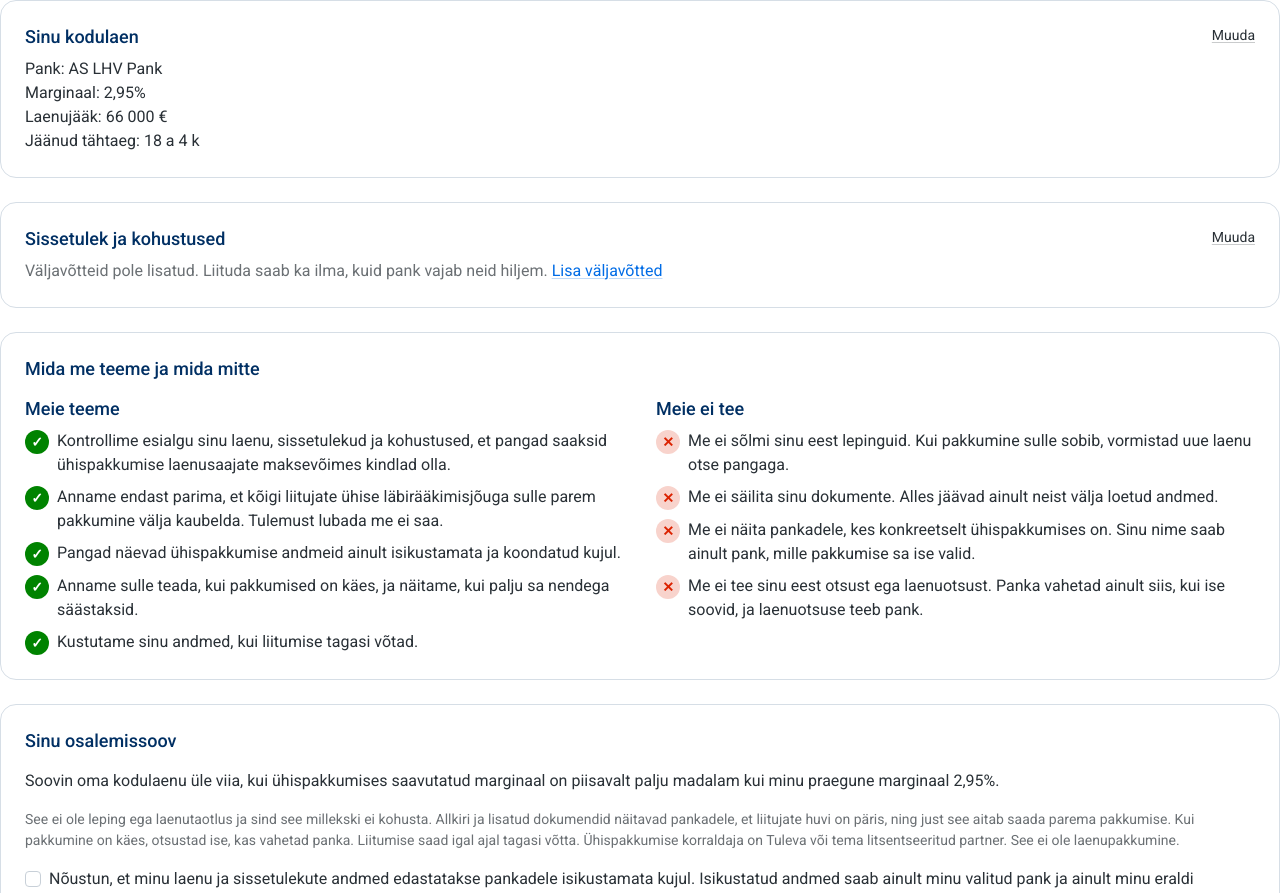
ReviewStep › explains why a signature was refused
Click the checkbox labelled "Nõustun, et minu laenu" at (33, 879), box x1=25 y1=871 x2=41 y2=887
(page scrolled)
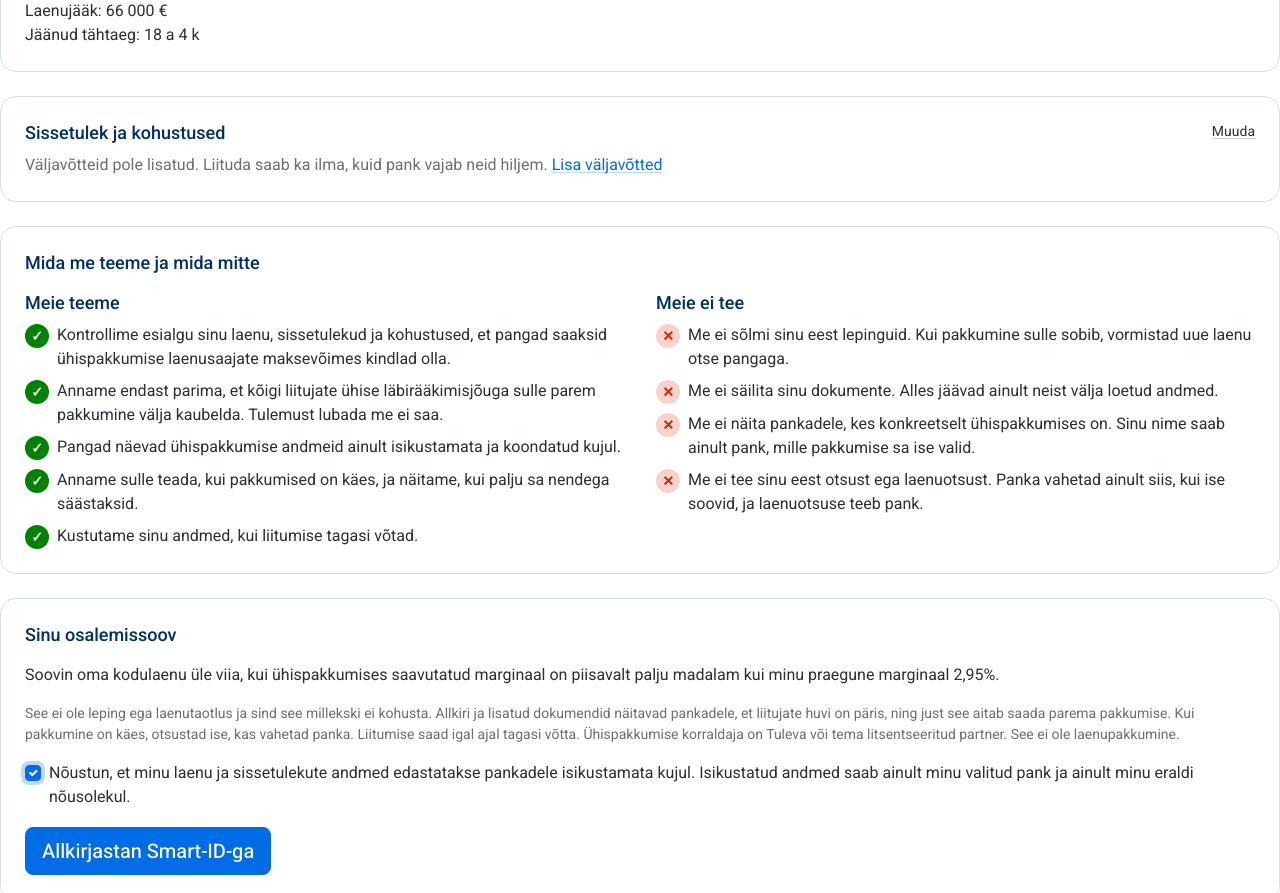
Click the button "Allkirjastan Smart-ID-ga" at (148, 851), box x1=25 y1=827 x2=271 y2=875
(page scrolled)
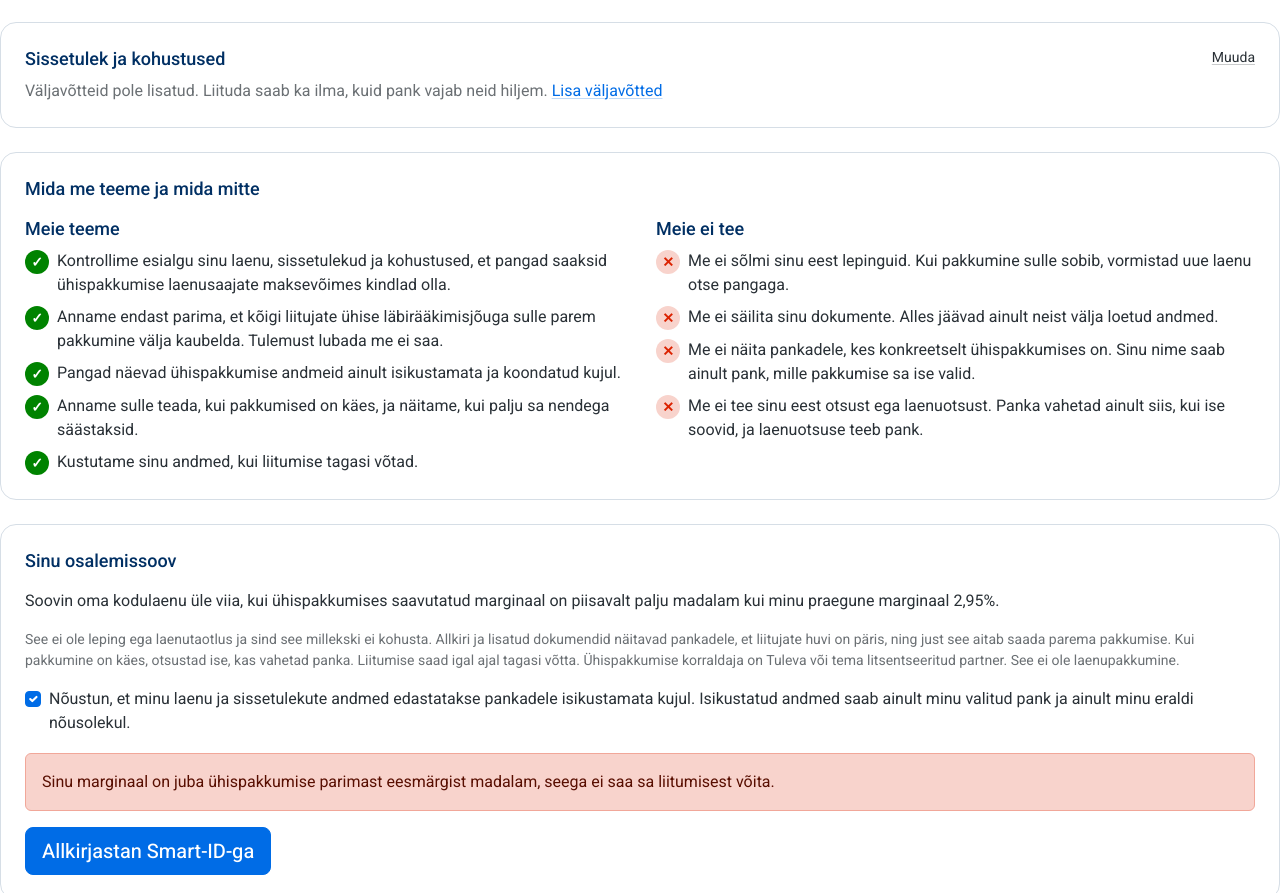
Check: the message shows "parimast eesmärgist madalam", box x1=42 y1=772 x2=775 y2=791
